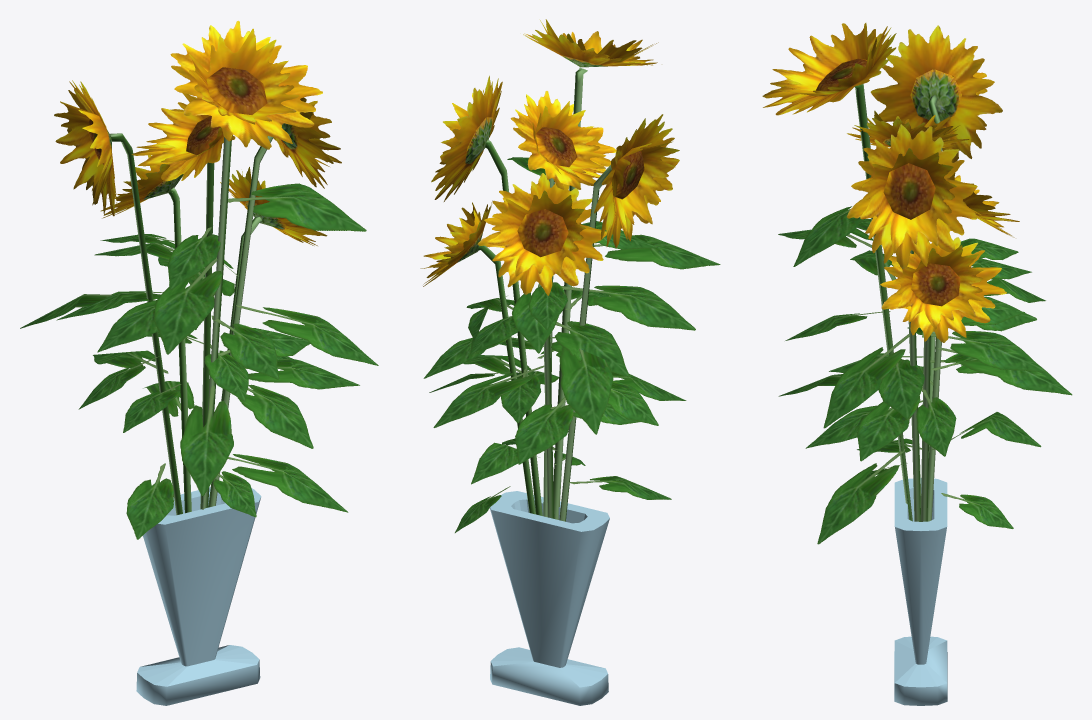
File: SunflowerHouseplant_SUNFLOWER_HOUSEPLANT.dae
3 renders of one model, left to right at view 1: azimuth 30°, elevation 25°; view 2: azimuth 150°, elevation 25°; view 3: azimuth 270°, elevation 25°, orthographic. The views are drawn at different scales.
Parts seen in each view (by area): view 1: mesh0, mesh1; view 2: mesh0, mesh1; view 3: mesh0, mesh1.
Boxes of the visible parts, x1=… form: mesh0: x1=20, y1=20, x2=378, y2=539; mesh1: x1=136, y1=487, x2=261, y2=705; mesh0: x1=420, y1=19, x2=720, y2=532; mesh1: x1=490, y1=491, x2=609, y2=705; mesh0: x1=762, y1=23, x2=1072, y2=544; mesh1: x1=894, y1=478, x2=947, y2=705.
Size of the model in its own units: 0.4387 by 1.03 by 0.459.
